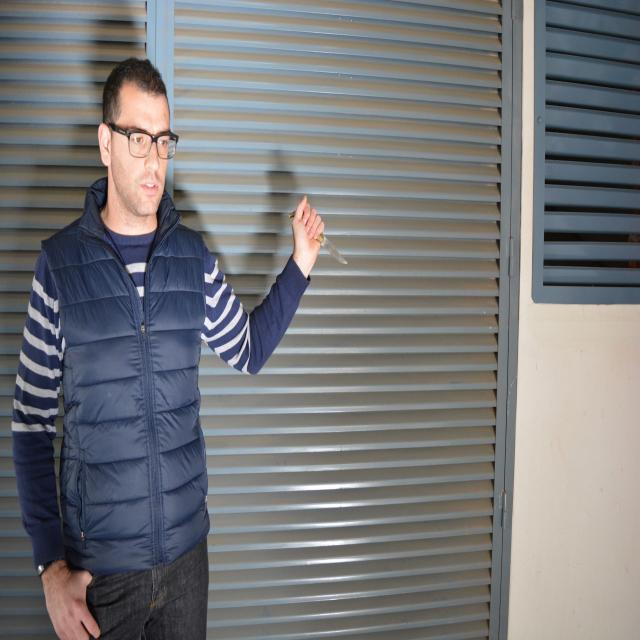knife: (318, 231, 353, 270)
